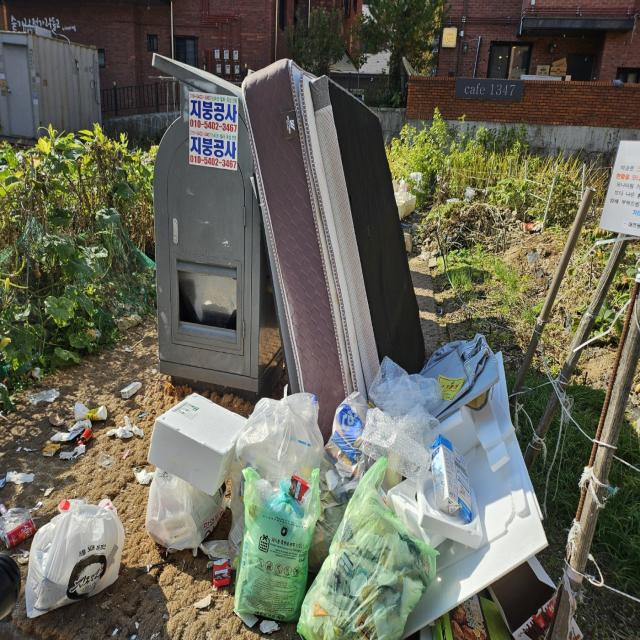CleanNet: (153, 55, 282, 400)
General Waste: (309, 355, 549, 640), (157, 393, 346, 577), (297, 483, 438, 640), (241, 470, 320, 630), (18, 508, 128, 618)
Large Waste Items: (242, 59, 428, 400)
